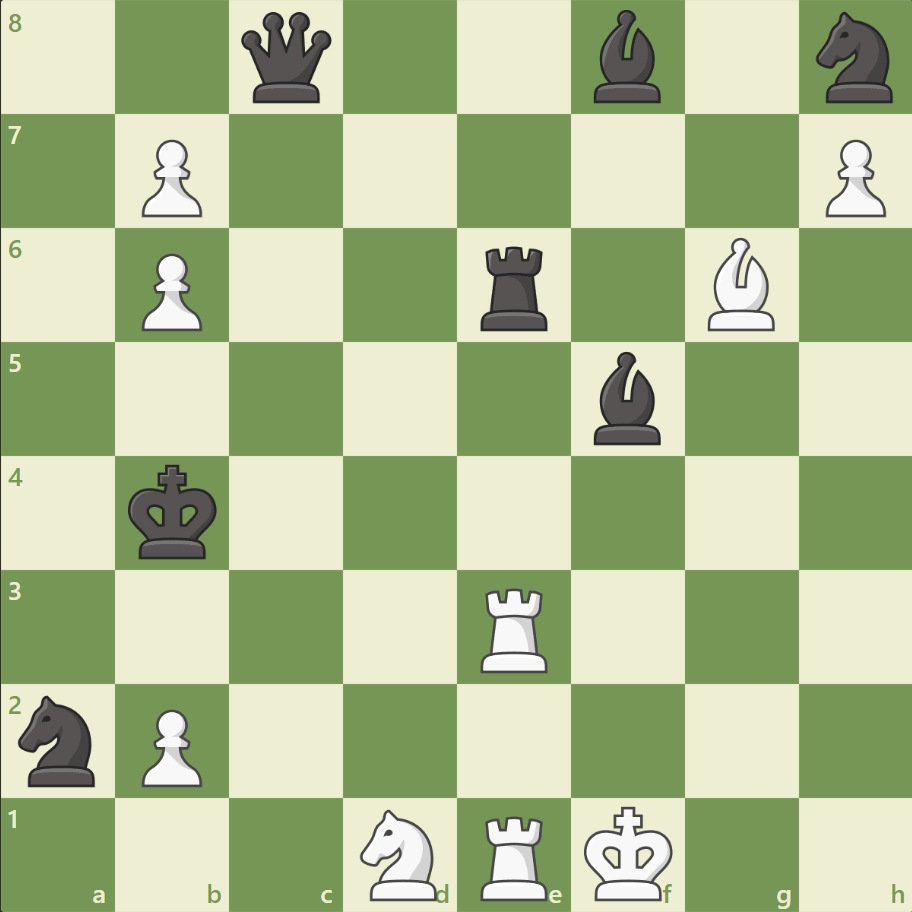B: (698, 233, 782, 336)
K: (579, 798, 679, 906)
N: (351, 802, 449, 904)
P: (133, 132, 208, 223), (133, 246, 208, 337), (133, 700, 208, 791), (815, 132, 889, 223)
R: (473, 806, 556, 904), (473, 579, 556, 676)
b: (585, 6, 669, 109), (585, 347, 669, 449)
k: (124, 458, 224, 566)
n: (806, 7, 903, 110), (11, 688, 108, 791)
q: (237, 9, 336, 108)
r: (473, 239, 556, 336)
